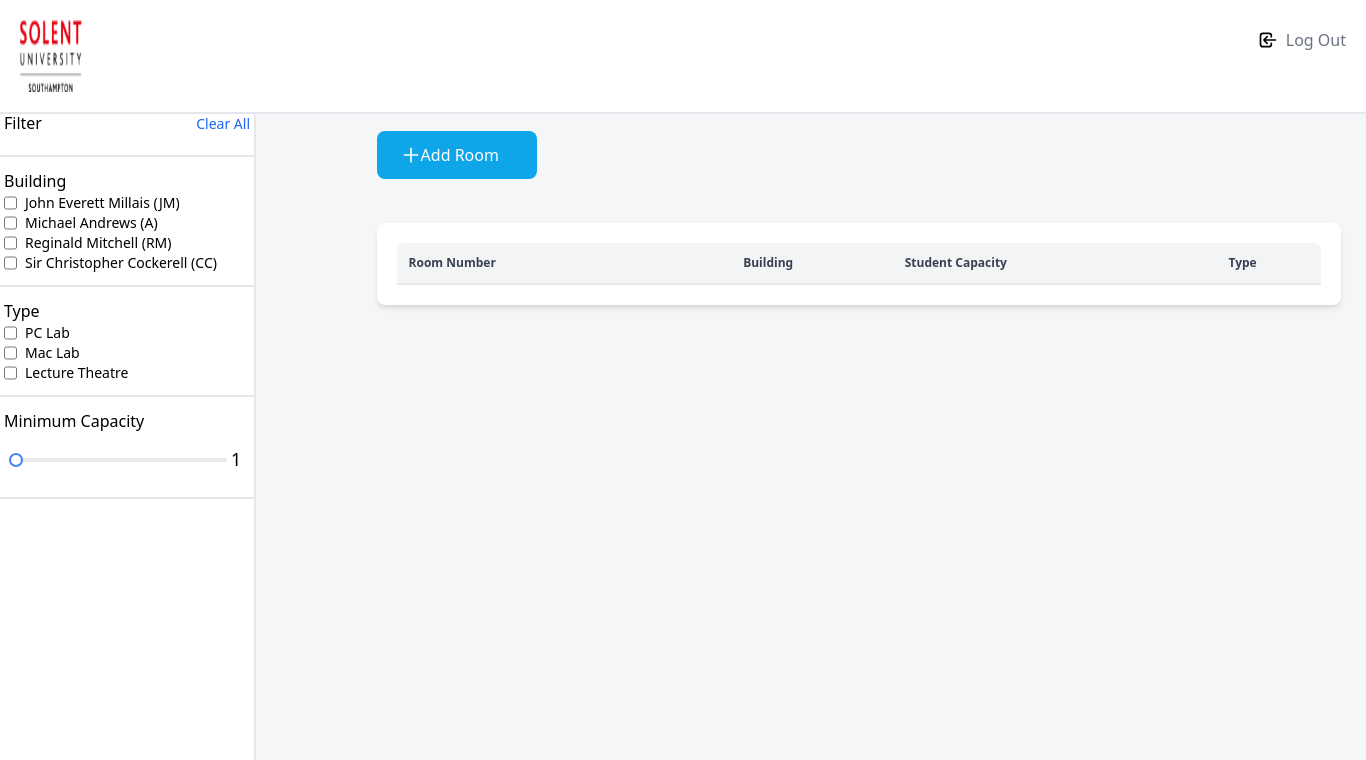
Test: Home Page Test › navigates to the add room form
Click the link with test id "add-room-button": {"x": 457, "y": 155} top-left (377, 131), bottom-right (537, 179)
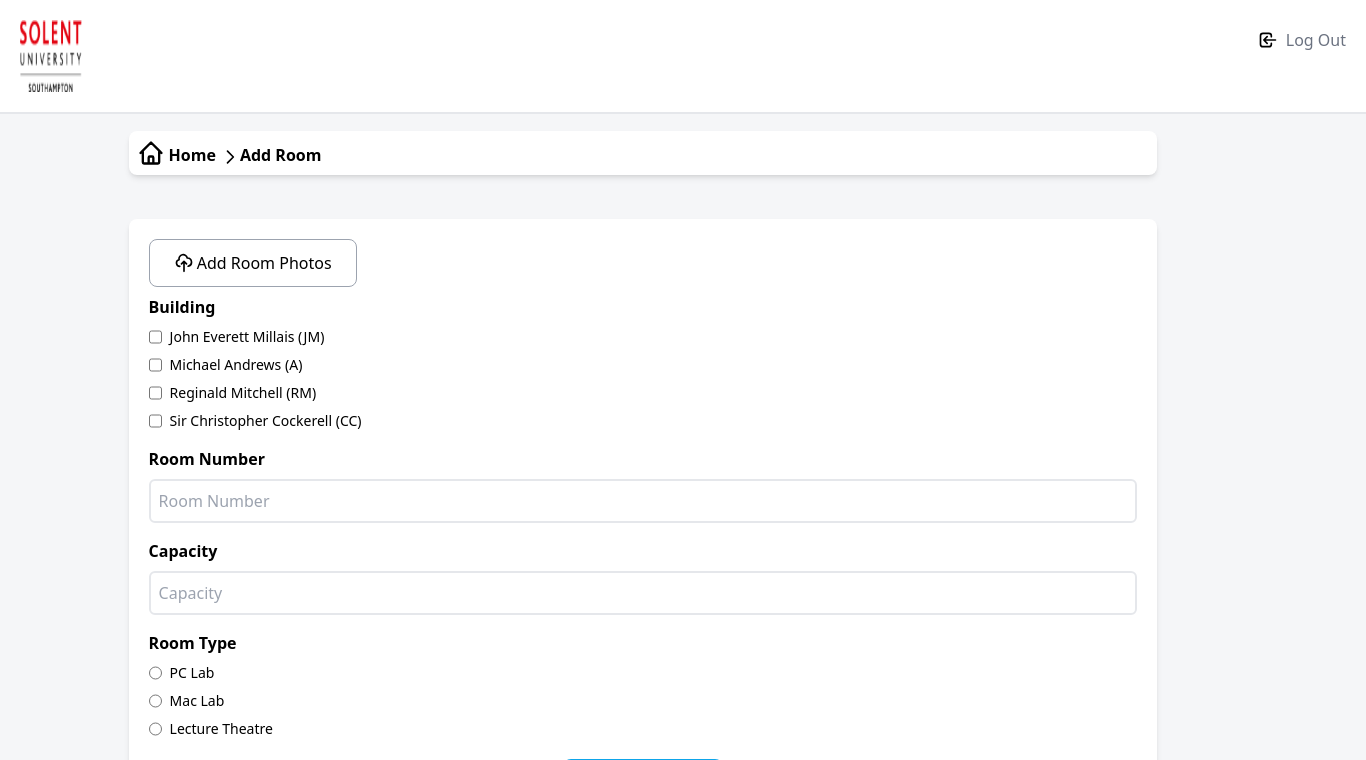
Now the text with test id "bread-crumb" reads "Add Room", box top-left (240, 144), bottom-right (322, 166)
